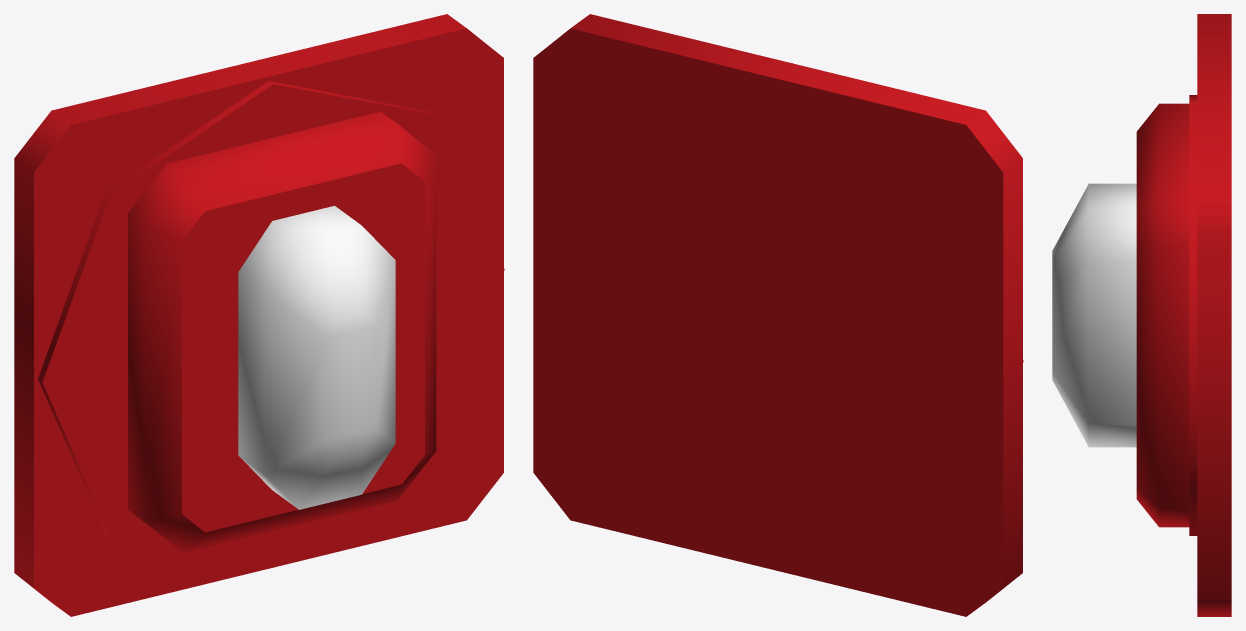
The model's file is LC_3209_FireAlarmLamp_LOD1.FBX.
3 renders of one model, left to right at view 1: azimuth 30°, elevation 25°; view 2: azimuth 150°, elevation 25°; view 3: azimuth 270°, elevation 25°, orthographic. The views are drawn at different scales.
Parts seen in each view (by area): view 1: LC_3209_FireAlarmLamp_LOD1; view 2: LC_3209_FireAlarmLamp_LOD1; view 3: LC_3209_FireAlarmLamp_LOD1.
Part boxes in pixels (x1,y1,x2,y2): LC_3209_FireAlarmLamp_LOD1: [14, 14, 504, 616]; LC_3209_FireAlarmLamp_LOD1: [533, 14, 1023, 616]; LC_3209_FireAlarmLamp_LOD1: [1052, 14, 1231, 616].
Size of the model in its own units: 11.21 by 11.21 by 4.21.
Materials: 1 (1 with a texture image).
